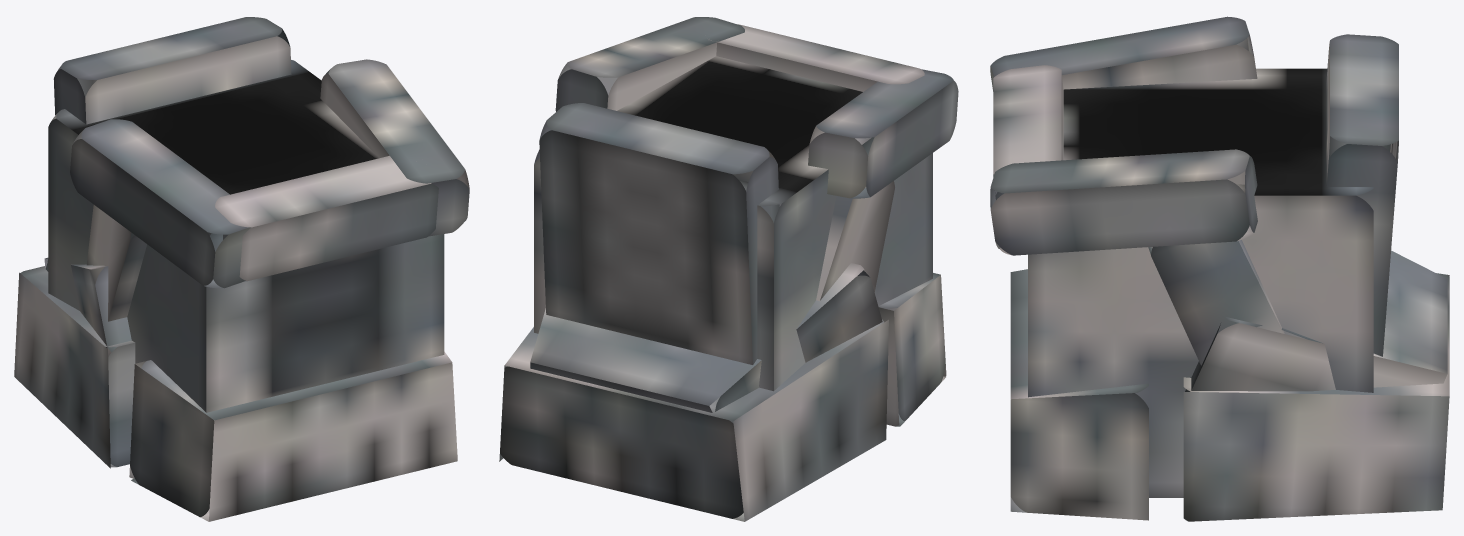
The model's file is generic_urban_b_l.obj.
The picture shows the model from 3 angles, left to right: view 1: azimuth 30°, elevation 25°; view 2: azimuth 150°, elevation 25°; view 3: azimuth 270°, elevation 25°; orthographic projection. The views are drawn at different scales.
Parts seen in each view (by area): view 1: cube; view 2: cube; view 3: cube.
Boxes of the visible parts, x1=… form: cube: x1=14, y1=17, x2=469, y2=521; cube: x1=499, y1=17, x2=958, y2=521; cube: x1=990, y1=16, x2=1449, y2=521.
Bounding box in the file's own units: 0.3519 × 0.3565 × 0.4171.
